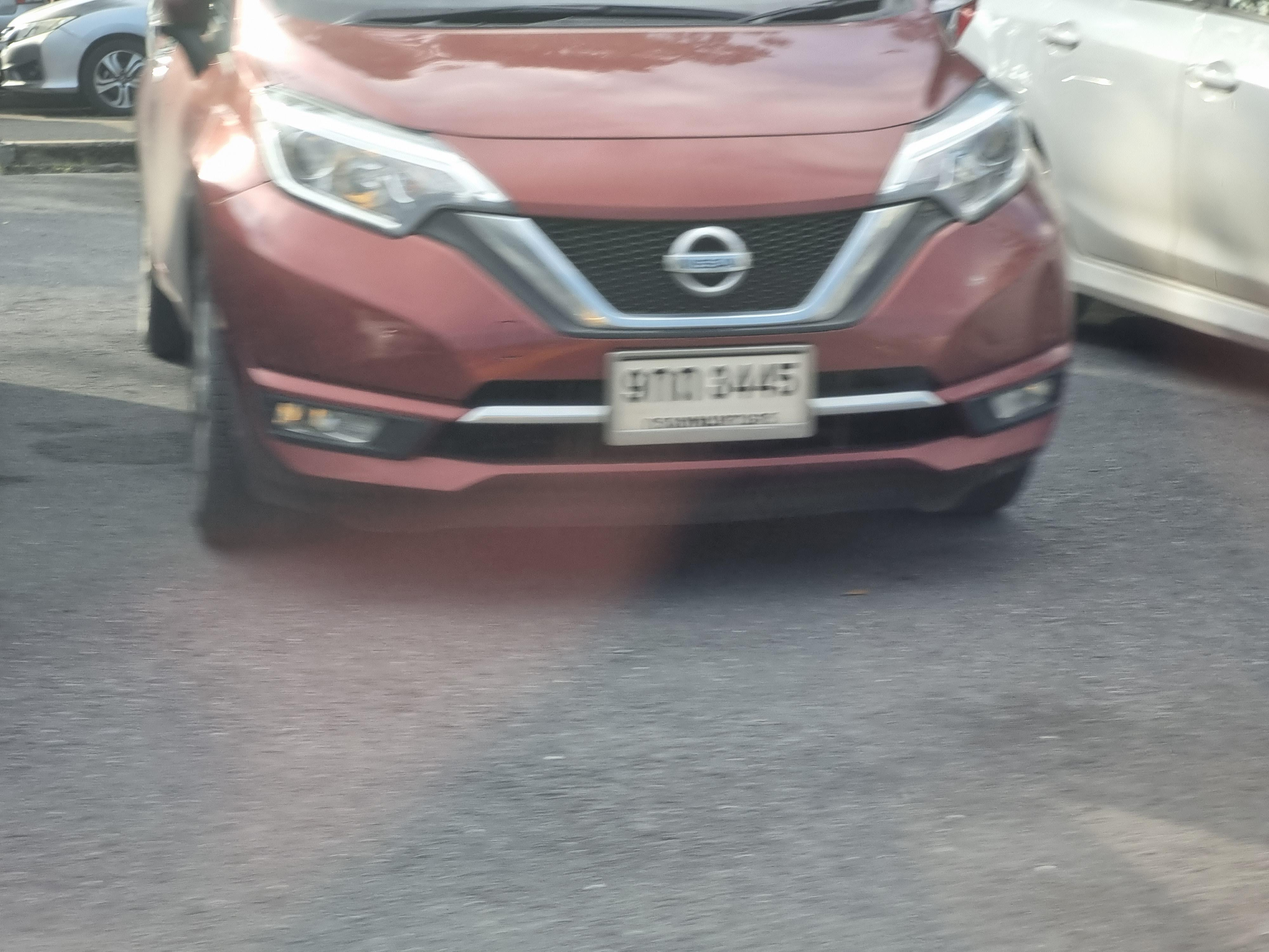license-plate: (601, 346, 817, 454)
